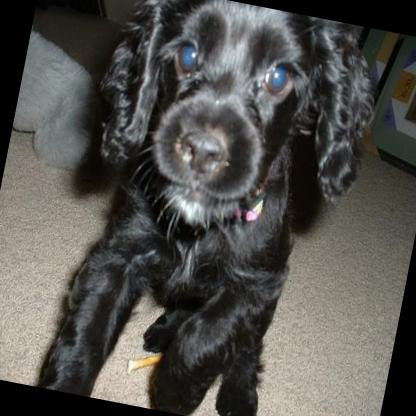cocker_spaniel: (39, 0, 386, 416)
